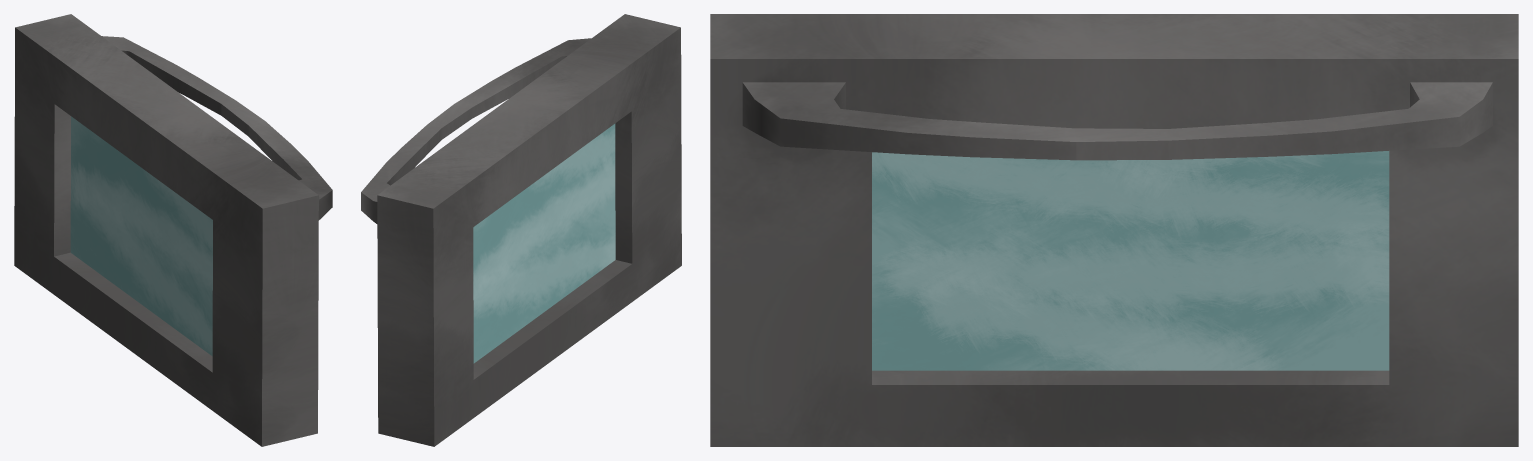
Rendered from OvenDoor.fbx.
3 renders of one model, left to right at view 1: azimuth 30°, elevation 25°; view 2: azimuth 150°, elevation 25°; view 3: azimuth 270°, elevation 25°, orthographic. The views are drawn at different scales.
Parts seen in each view (by area): view 1: Door; view 2: Door; view 3: Door.
Part boxes in pixels (x1=…): Door: x1=14, y1=14, x2=332, y2=446; Door: x1=361, y1=14, x2=681, y2=446; Door: x1=710, y1=14, x2=1518, y2=446.
Size of the model in its own units: 6.72 by 13.24 by 24.94.
Materials: 2 (2 with a texture image).
